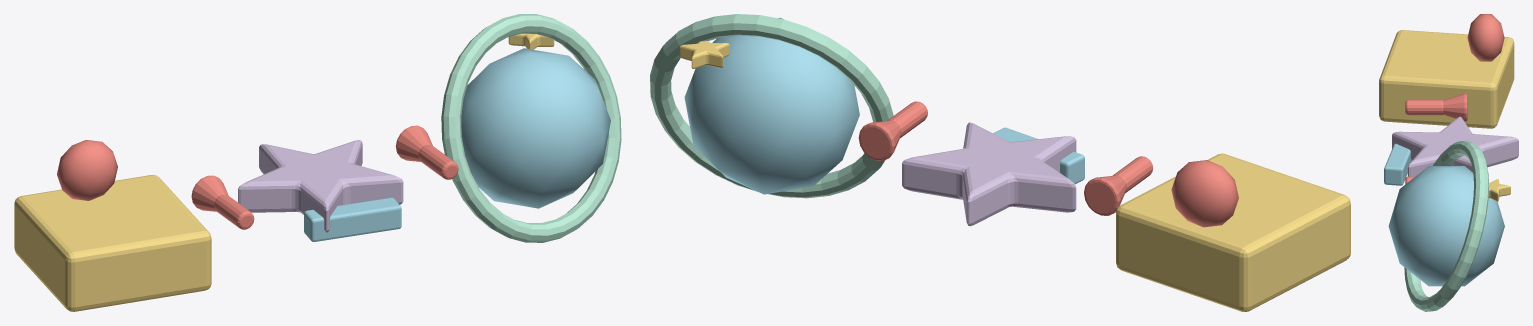
File: dopamine-kit.glb
The picture shows the model from 3 angles, left to right: view 1: azimuth 30°, elevation 25°; view 2: azimuth 150°, elevation 25°; view 3: azimuth 270°, elevation 25°; orthographic projection. The views are drawn at different scales.
Parts seen in each view (by area): view 1: idea tile, result orb, Torus, route star, route tile, idea spark, route arrow head, result arrow head, result arrow shaft, route arrow shaft, result glint; view 2: idea tile, result orb, route star, Torus, idea spark, result arrow head, route arrow head, result glint, route tile, result arrow shaft, route arrow shaft; view 3: idea tile, result orb, Torus, route star, idea spark, route tile, route arrow shaft, route arrow head, result glint.
Part boxes in pixels (bbox=[...]): idea tile: bbox=[14, 175, 211, 311]; result orb: bbox=[461, 48, 610, 208]; Torus: bbox=[441, 14, 621, 242]; route star: bbox=[238, 140, 403, 232]; route tile: bbox=[304, 197, 401, 241]; idea spark: bbox=[57, 140, 117, 200]; route arrow head: bbox=[191, 175, 228, 211]; result arrow head: bbox=[395, 125, 432, 161]; result arrow shaft: bbox=[418, 145, 458, 179]; route arrow shaft: bbox=[214, 195, 254, 229]; result glint: bbox=[508, 33, 554, 49]; idea tile: bbox=[1116, 153, 1350, 311]; result orb: bbox=[684, 17, 859, 194]; route star: bbox=[902, 122, 1076, 226]; Torus: bbox=[650, 14, 893, 198]; idea spark: bbox=[1171, 160, 1238, 227]; result arrow head: bbox=[858, 120, 901, 160]; route arrow head: bbox=[1084, 175, 1126, 215]; result glint: bbox=[679, 41, 729, 68]; route tile: bbox=[993, 127, 1084, 184]; result arrow shaft: bbox=[887, 101, 927, 138]; route arrow shaft: bbox=[1112, 156, 1153, 192]; idea tile: bbox=[1379, 30, 1514, 128]; result orb: bbox=[1388, 166, 1504, 286]; Torus: bbox=[1404, 140, 1489, 311]; route star: bbox=[1392, 116, 1518, 176]; idea spark: bbox=[1467, 14, 1504, 61]; route tile: bbox=[1384, 143, 1411, 185]; route arrow shaft: bbox=[1405, 100, 1443, 115]; route arrow head: bbox=[1443, 93, 1467, 121]; result glint: bbox=[1488, 179, 1510, 201].
Size of the model in its own units: 4.81 by 1.51 by 1.28.
